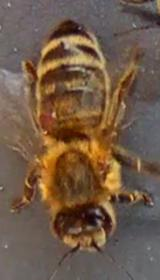varroa_mite: (34, 108, 61, 134)
